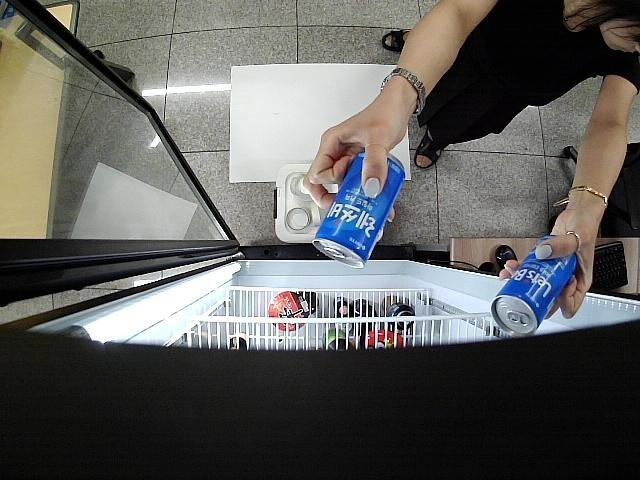15_letsbe: (312, 147, 406, 270), (492, 236, 578, 337)
